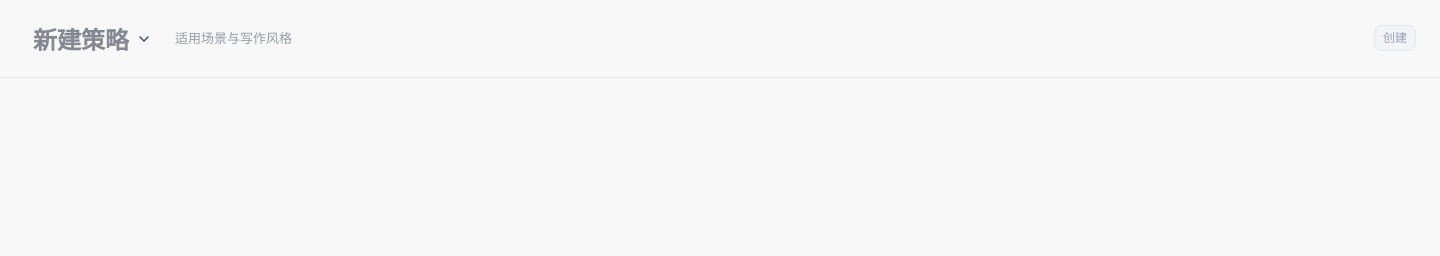
弹窗放行后经 pendingSwitch 继续切换（one-shot 消费）
Step 1. Click the button named "切换策略" → (144,38), box [132,26,156,50]
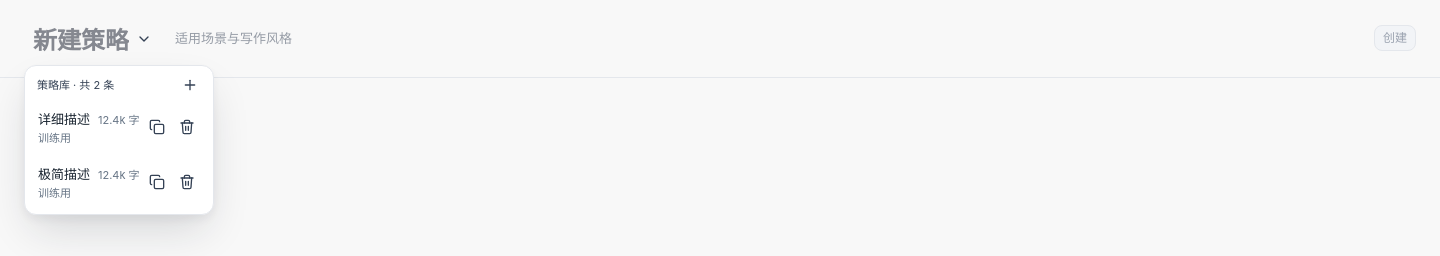
Step 2. Click the menu item "详细描述 12.4k 字 训练用" → (119,128), box [29,100,209,155]
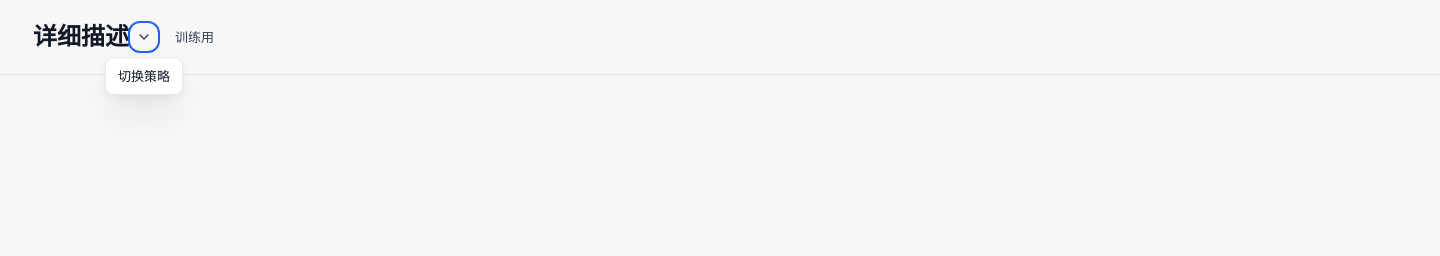
Now the field named "策略名称" holds "详细描述", box [24,16,158,58]
